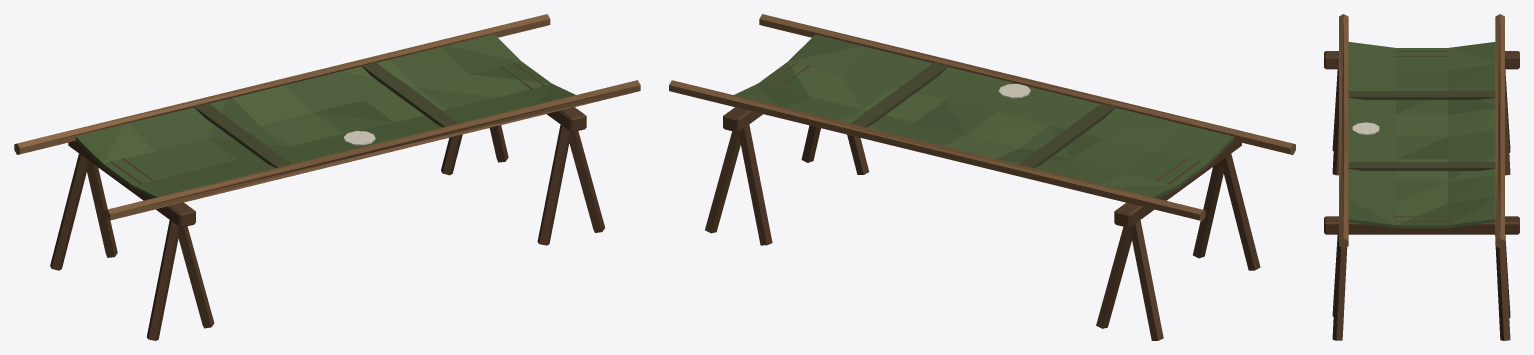
The model's file is cot_medical_polevaya_idle.glb.
3 views of the same model, side by side, from view 1: azimuth 30°, elevation 25°; view 2: azimuth 150°, elevation 25°; view 3: azimuth 270°, elevation 25° (orthographic). The views are drawn at different scales.
Parts seen in each view (by area): view 1: cot_medical_polevaya_idle; view 2: cot_medical_polevaya_idle; view 3: cot_medical_polevaya_idle.
Boxes of the visible parts, left/top/right/bottom form: cot_medical_polevaya_idle: left=14, top=14, right=640, bottom=340; cot_medical_polevaya_idle: left=669, top=14, right=1295, bottom=340; cot_medical_polevaya_idle: left=1324, top=14, right=1519, bottom=340.
Bounding box in the file's own units: 1.9 × 0.4749 × 0.7.
1 material, 1 textured.
